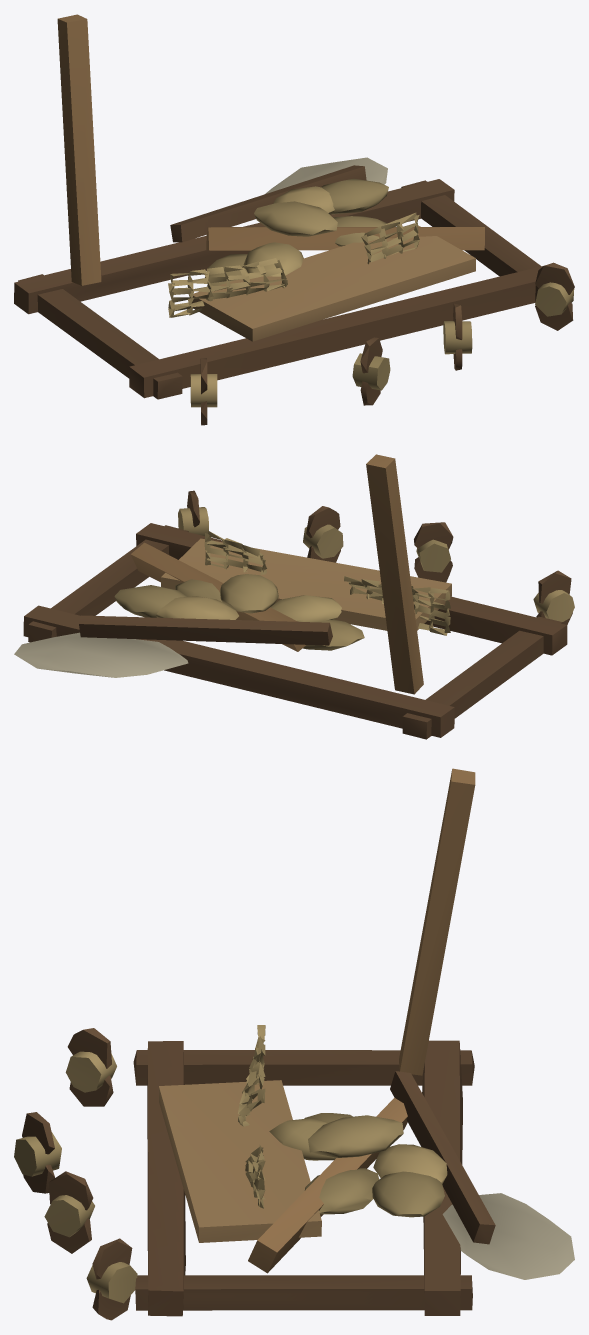
The model's file is loom_frame_c_lod2.glb.
3 views of the same model, one above another, from view 1: azimuth 30°, elevation 25°; view 2: azimuth 150°, elevation 25°; view 3: azimuth 270°, elevation 25° (orthographic). The views are drawn at different scales.
Visible parts, largest first — view 1: Surface.001; view 2: Surface.001; view 3: Surface.001.
Boxes of the visible parts, x1=… form: Surface.001: x1=14, y1=14, x2=574, y2=425; Surface.001: x1=14, y1=454, x2=574, y2=739; Surface.001: x1=14, y1=768, x2=574, y2=1320.
Bounding box in the file's own units: 5.59 × 3.6 × 5.27.
